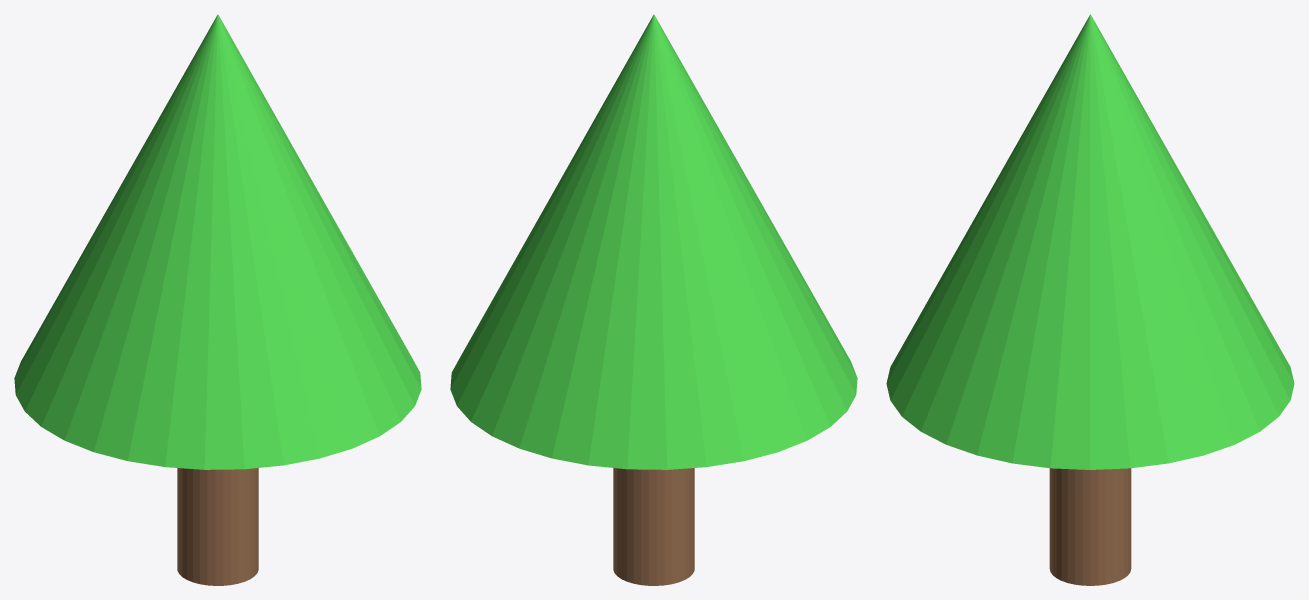
The model's file is tree.glb.
The picture shows the model from 3 angles, left to right: view 1: azimuth 30°, elevation 25°; view 2: azimuth 150°, elevation 25°; view 3: azimuth 270°, elevation 25°; orthographic projection.
Visible parts, largest first — view 1: Tree; view 2: Tree; view 3: Tree.
Boxes of the visible parts, bbox=[...] form: Tree: bbox=[14, 14, 421, 585]; Tree: bbox=[450, 14, 857, 585]; Tree: bbox=[886, 14, 1294, 585].
Size of the model in its own units: 2 by 3 by 2.
